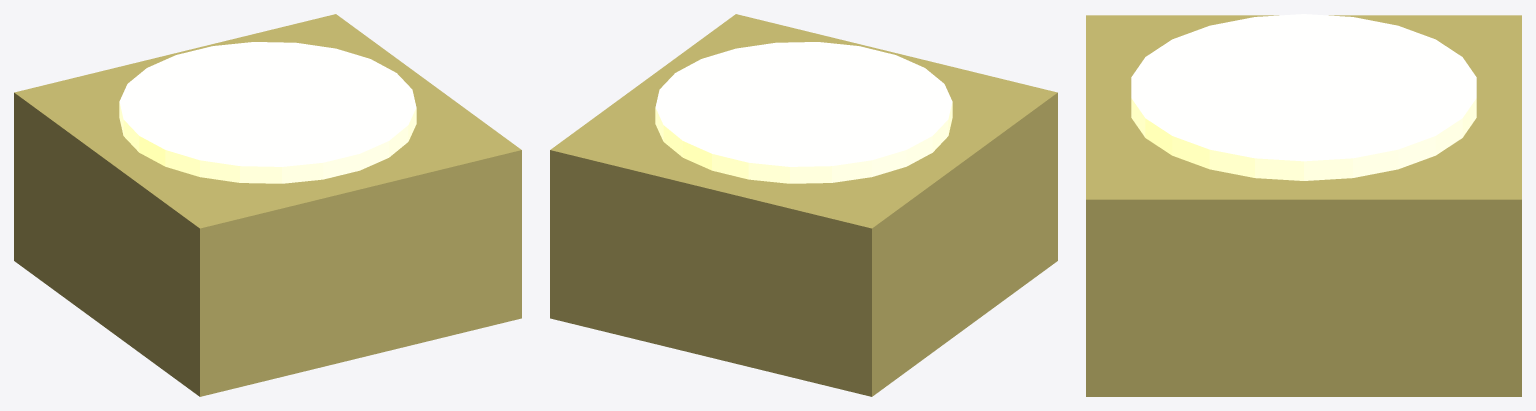
Rendered from Goal_TopHalf.glb.
The picture shows the model from 3 angles, left to right: view 1: azimuth 30°, elevation 25°; view 2: azimuth 150°, elevation 25°; view 3: azimuth 270°, elevation 25°; orthographic projection. The views are drawn at different scales.
Visible parts, largest first — view 1: Goal_TopHalf_body, glow_disc.002; view 2: Goal_TopHalf_body, glow_disc.002; view 3: Goal_TopHalf_body, glow_disc.002.
Part boxes in pixels (x1,y1,x2,y2): Goal_TopHalf_body: (14,14,521,396); glow_disc.002: (119,42,416,183); Goal_TopHalf_body: (550,14,1057,396); glow_disc.002: (655,42,952,183); Goal_TopHalf_body: (1086,15,1521,396); glow_disc.002: (1131,14,1476,180).
Bounding box in the file's own units: 1 × 0.55 × 1.
